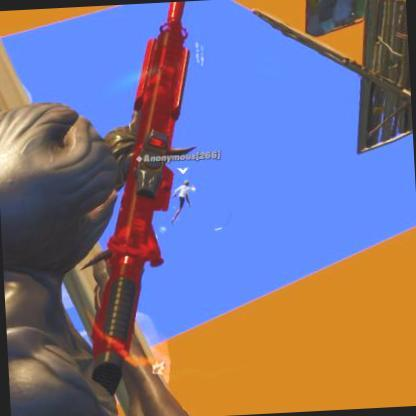person: (303, 0, 358, 36), (176, 180, 194, 218)
